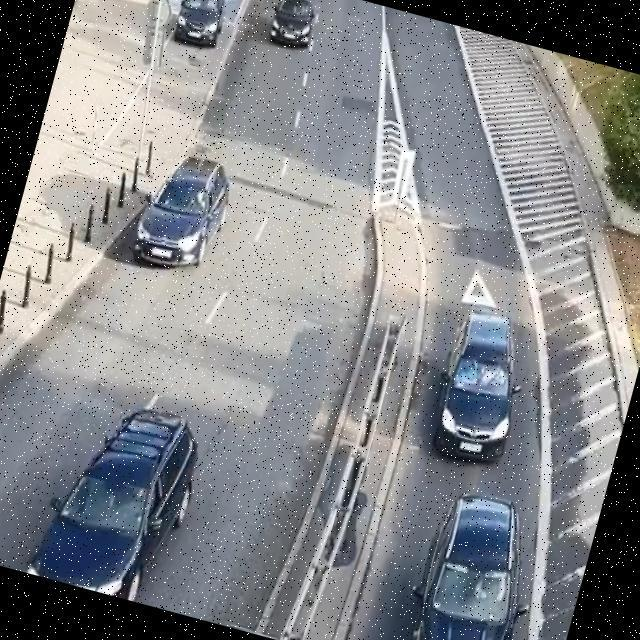car: (29, 410, 196, 598), (416, 496, 518, 639), (435, 311, 511, 458), (135, 159, 229, 266), (175, 0, 224, 46), (271, 0, 315, 46)
